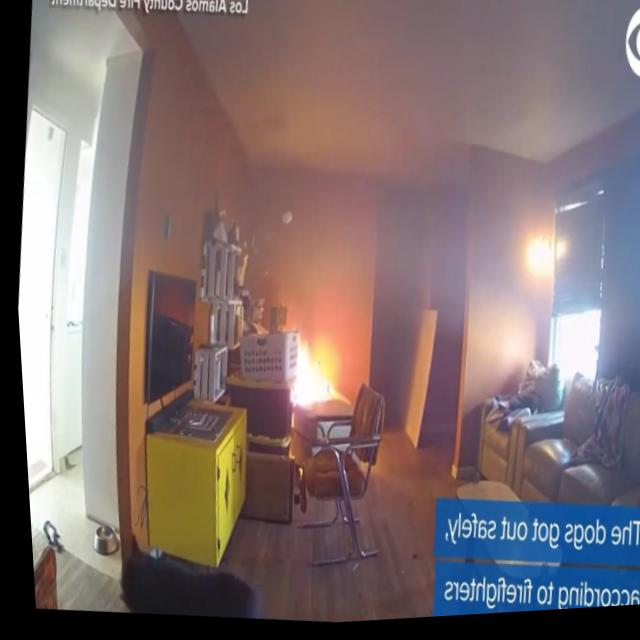fire: (280, 330, 340, 422)
